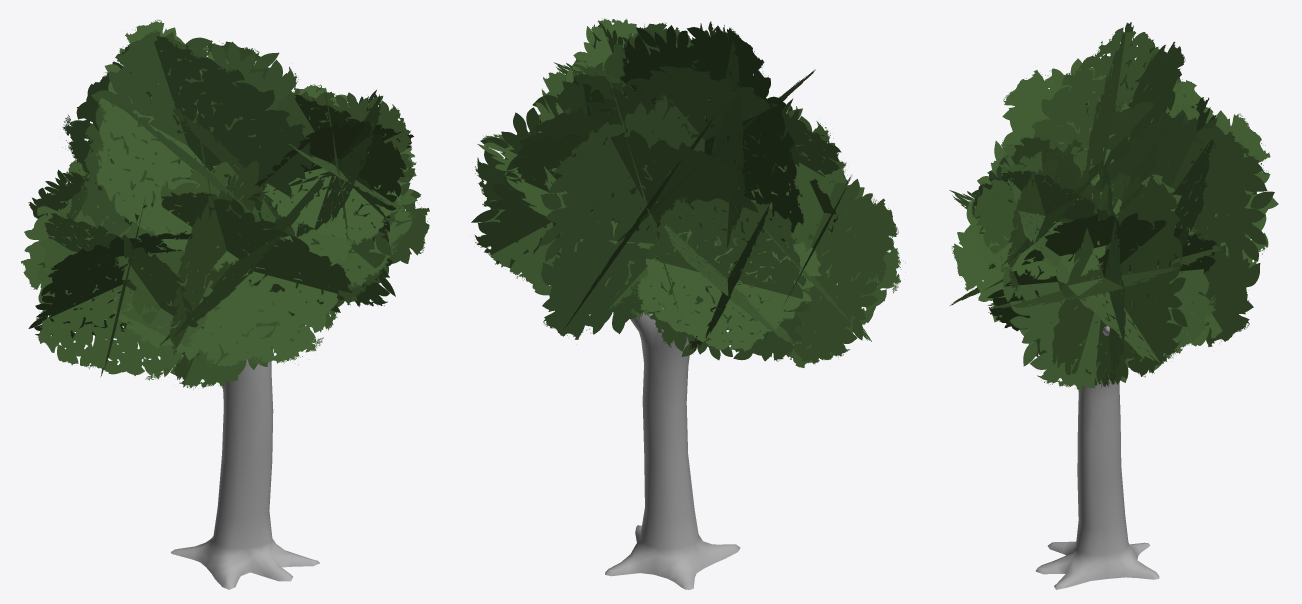
The model's file is OakTree.fbx.
3 renders of one model, left to right at view 1: azimuth 30°, elevation 25°; view 2: azimuth 150°, elevation 25°; view 3: azimuth 270°, elevation 25°, orthographic. The views are drawn at different scales.
Parts seen in each view (by area): view 1: pPlane47, pPlane46, pPlane43, pPlane49, Tree_One_Low, pPlane35, pPlane48, pPlane37; view 2: pPlane37, pPlane47, pPlane48, pPlane43, pPlane35, Tree_One_Low, pPlane49, pPlane46; view 3: pPlane35, pPlane37, pPlane47, pPlane49, Tree_One_Low, pPlane46.
Part boxes in pixels (<box>): pPlane47: <box>62,20,314,271</box>; pPlane46: <box>111,160,351,389</box>; pPlane43: <box>28,190,213,380</box>; pPlane49: <box>255,84,414,245</box>; Tree_One_Low: <box>171,359,319,589</box>; pPlane35: <box>248,84,429,332</box>; pPlane48: <box>21,159,101,289</box>; pPlane37: <box>74,40,321,278</box>; pPlane37: <box>514,66,773,342</box>; pPlane47: <box>583,21,841,247</box>; pPlane48: <box>637,196,821,361</box>; pPlane43: <box>714,156,905,367</box>; pPlane35: <box>471,71,669,319</box>; Tree_One_Low: <box>605,294,740,589</box>; pPlane49: <box>553,18,695,114</box>; pPlane46: <box>627,98,847,329</box>; pPlane35: <box>987,166,1221,391</box>; pPlane37: <box>1058,97,1278,346</box>; pPlane47: <box>1002,22,1216,233</box>; pPlane49: <box>966,137,1121,291</box>; Tree_One_Low: <box>1035,326,1159,589</box>; pPlane46: <box>949,140,1029,335</box>.
Bounding box in the file's own units: 4.92 × 6.58 × 4.04.
2 materials, 1 textured.
